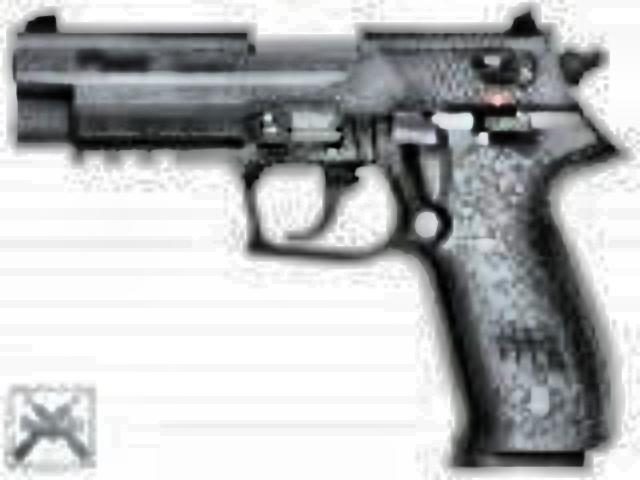pistol: (4, 0, 620, 472)
